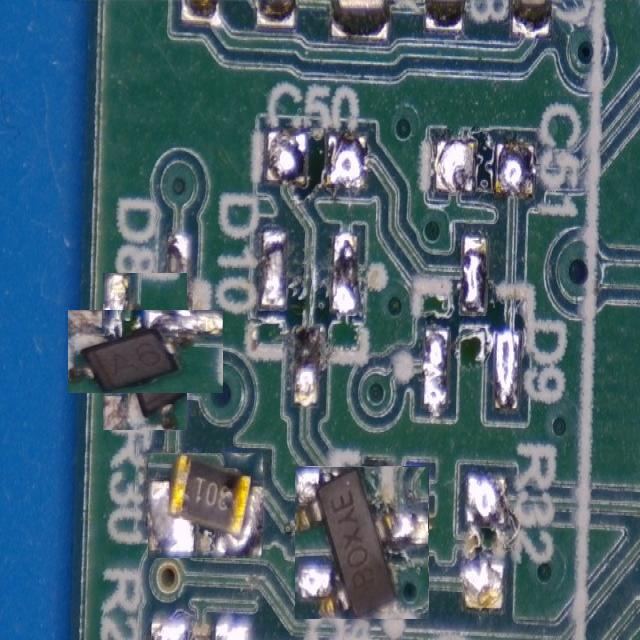Incorrect_installation: (296, 466, 427, 619), (68, 310, 223, 393), (147, 454, 263, 557)
